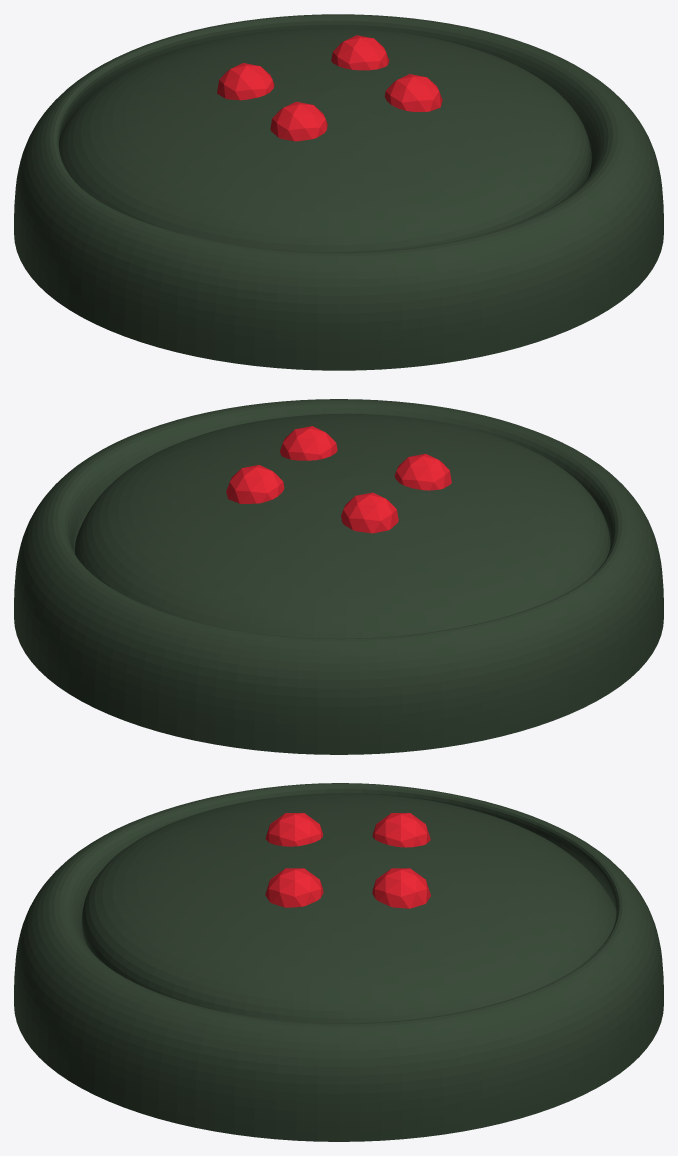
The model's file is KAWWAIILandmine.fbx.
3 renders of one model, top to bottom at view 1: azimuth 30°, elevation 25°; view 2: azimuth 150°, elevation 25°; view 3: azimuth 270°, elevation 25°, orthographic.
Parts seen in each view (by area): view 1: 円, ICO球; view 2: 円, ICO球; view 3: 円, ICO球.
Boxes of the visible parts, bbox=[...] form: 円: bbox=[14, 14, 663, 370]; ICO球: bbox=[217, 35, 442, 141]; 円: bbox=[14, 399, 663, 754]; ICO球: bbox=[226, 426, 451, 533]; 円: bbox=[14, 783, 663, 1141]; ICO球: bbox=[265, 813, 430, 908].
Bounding box in the file's own units: 191 × 51.97 × 191.
